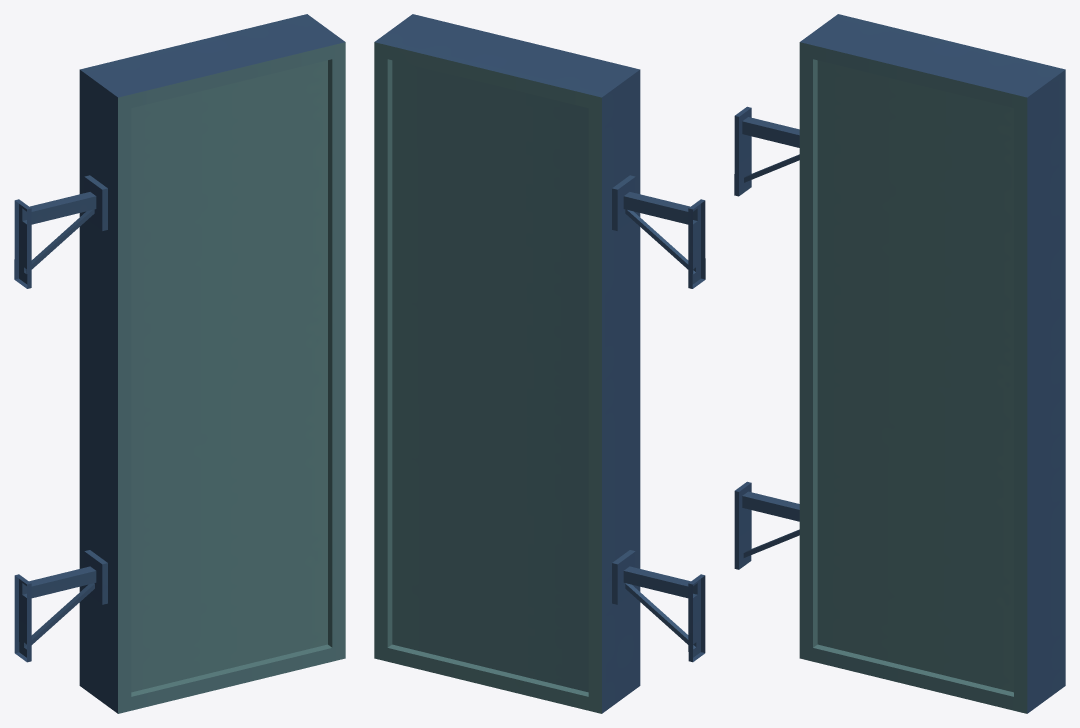
File: PR_CitySign_01.fbx
3 views of the same model, side by side, from view 1: azimuth 30°, elevation 25°; view 2: azimuth 150°, elevation 25°; view 3: azimuth 330°, elevation 25° (orthographic).
Visible parts, largest first — view 1: PR_CitySign_1; view 2: PR_CitySign_1; view 3: PR_CitySign_1.
Part boxes in pixels (box(x1,y1,x2,y2)): PR_CitySign_1: box(14, 14, 345, 713); PR_CitySign_1: box(374, 14, 705, 713); PR_CitySign_1: box(734, 14, 1065, 713).
Bounding box in the file's own units: 70.13 × 135 × 15.25.
Materials: 1 (1 with a texture image).
